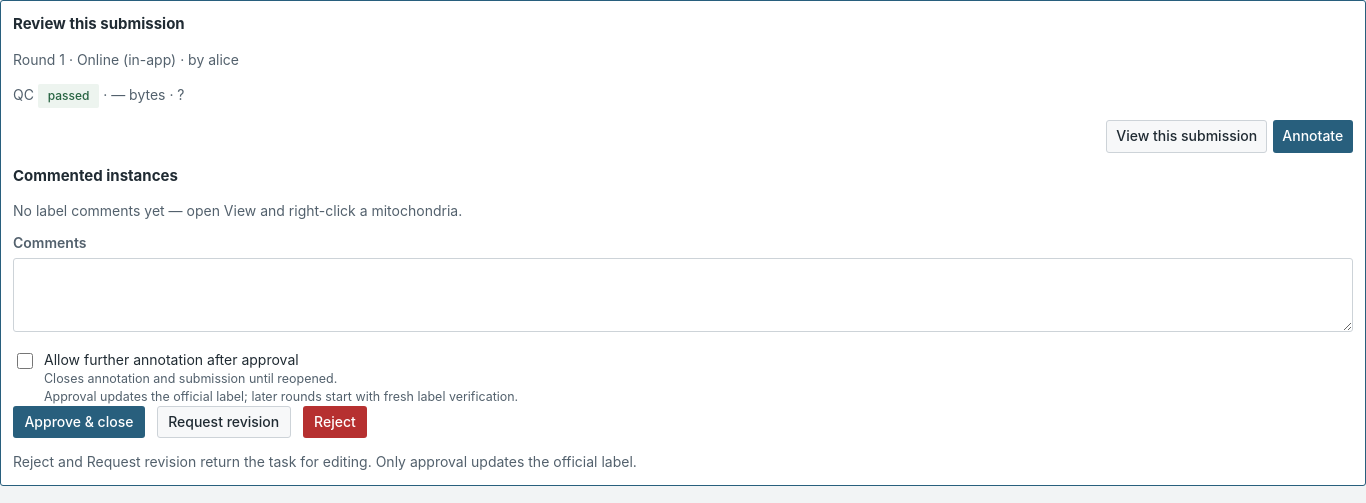
Test: collaboration workflow pages › leaves the reviewer on the task instead of redirecting to a role home
The width and height of the screenshot is (1366, 503).
What coordinates should you click on to do the following:
click the button "Approve & close"
I would click on:
 (79, 422)
Its box is [13,406,145,438].
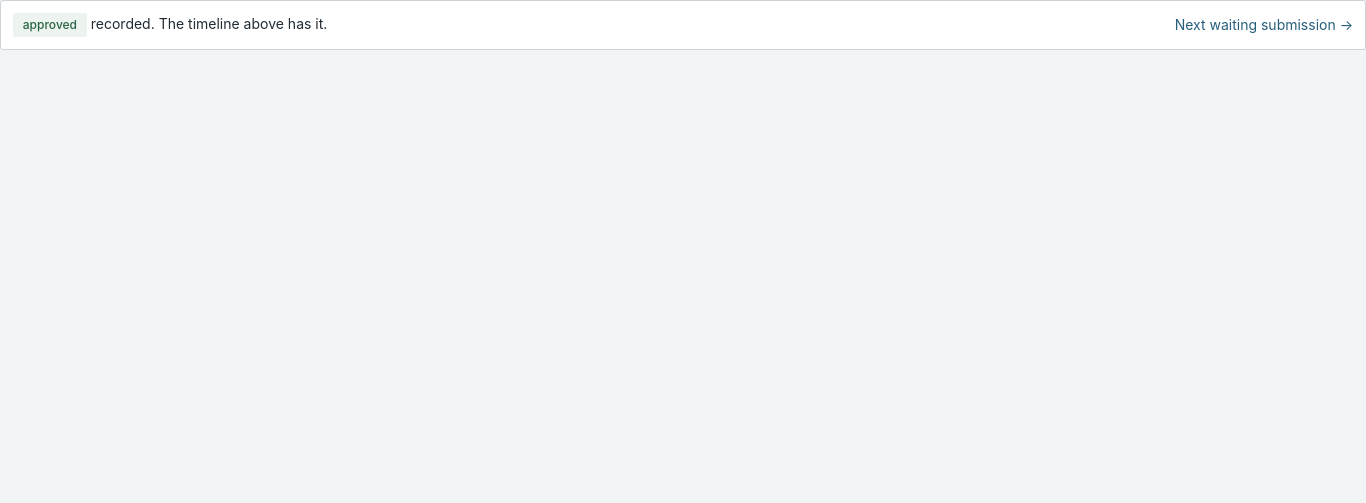
Now the text "approved recorded. The timeline above has it." is shown, box [13,13,327,37]
